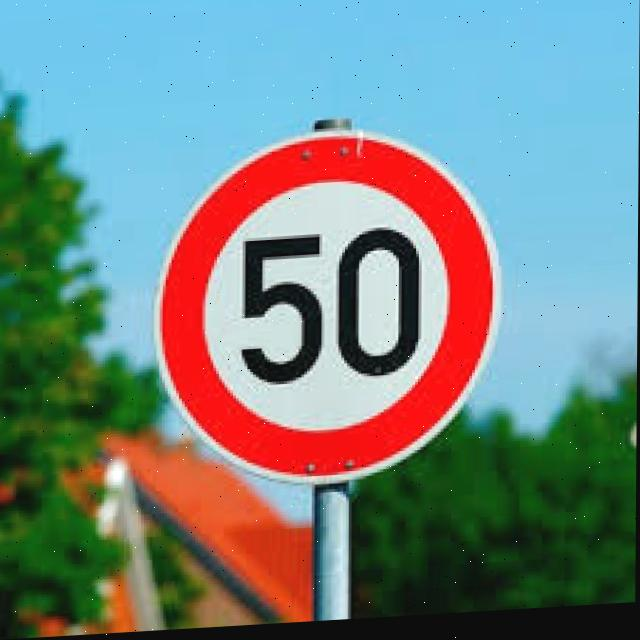Speed limit 50: (149, 120, 503, 500)
